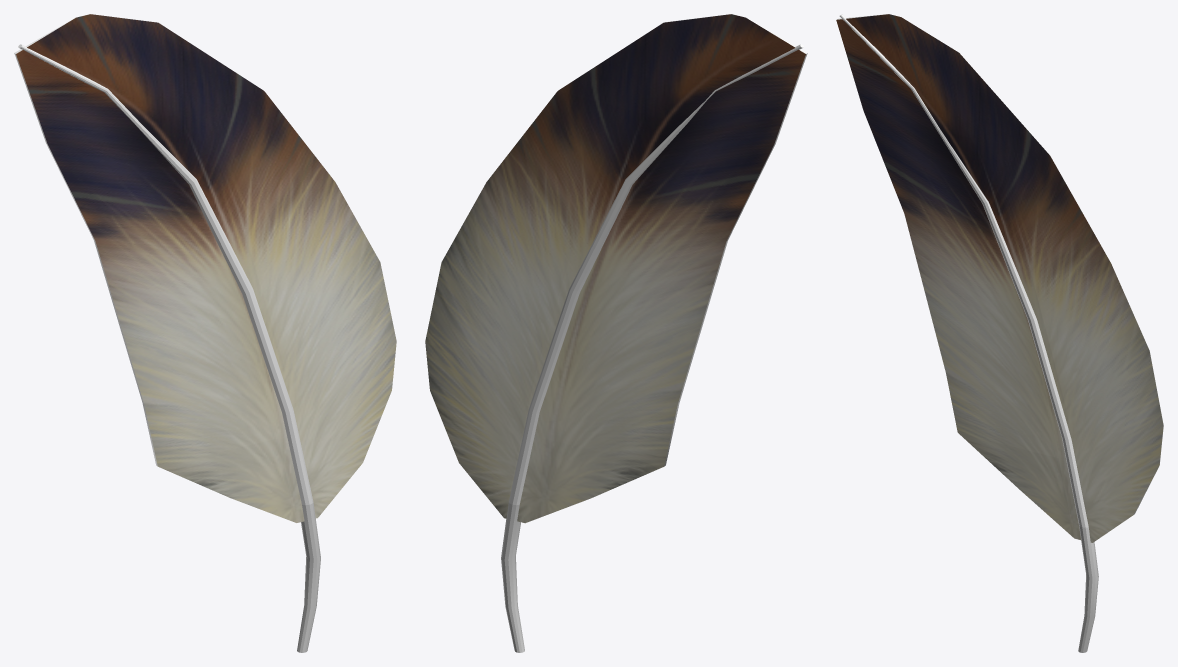
File: Feather.fbx
3 views of the same model, side by side, from view 1: azimuth 30°, elevation 25°; view 2: azimuth 150°, elevation 25°; view 3: azimuth 330°, elevation 25° (orthographic). The views are drawn at different scales.
Parts seen in each view (by area): view 1: polySurface1; view 2: polySurface1; view 3: polySurface1.
Part boxes in pixels (x1,y1,x2,y2): polySurface1: [14, 14, 396, 652]; polySurface1: [425, 14, 807, 652]; polySurface1: [836, 14, 1163, 652].
Bounding box in the file's own units: 6.12 × 10.55 × 0.22.
